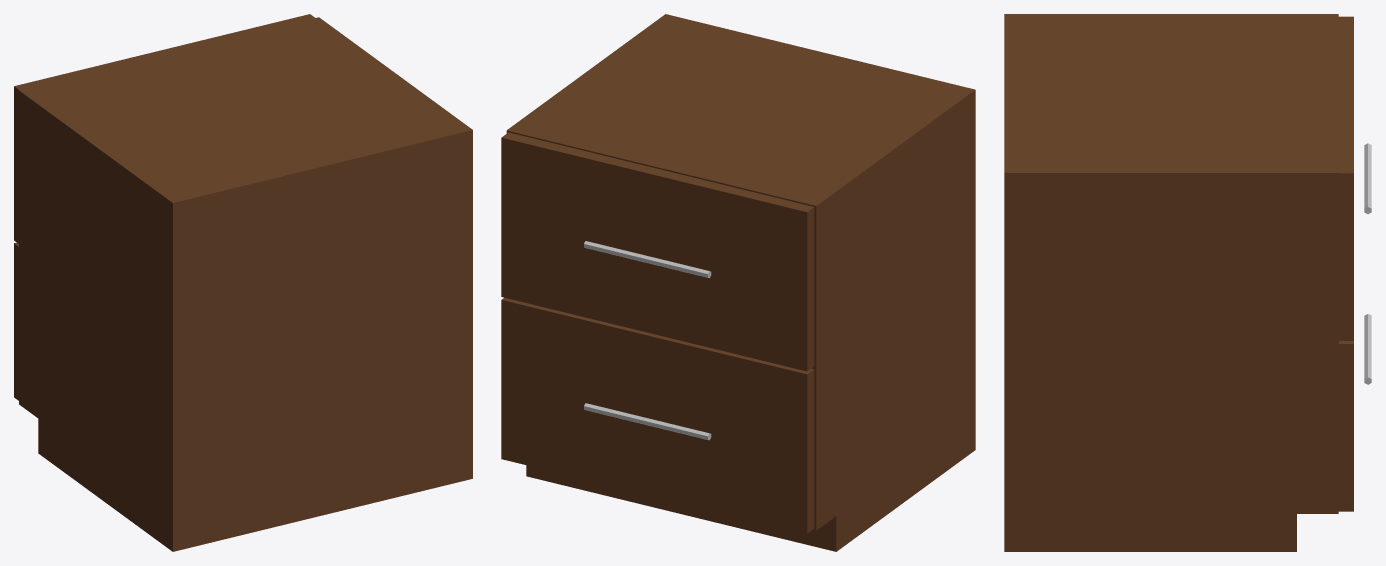
The model's file is furniture.storage.bedside_table.glb.
The picture shows the model from 3 angles, left to right: view 1: azimuth 30°, elevation 25°; view 2: azimuth 150°, elevation 25°; view 3: azimuth 270°, elevation 25°; orthographic projection. The views are drawn at different scales.
Visible parts, largest first — view 1: main__hardwood; view 2: main__hardwood, main__steel_stainless; view 3: main__hardwood, main__steel_stainless.
Part boxes in pixels (x1,y1,x2,y2): main__hardwood: (14, 14, 472, 551); main__hardwood: (501, 14, 975, 551); main__steel_stainless: (584, 241, 711, 440); main__hardwood: (1004, 14, 1353, 551); main__steel_stainless: (1364, 143, 1371, 384).
Size of the model in its own units: 0.45 by 0.5 by 0.4393.
